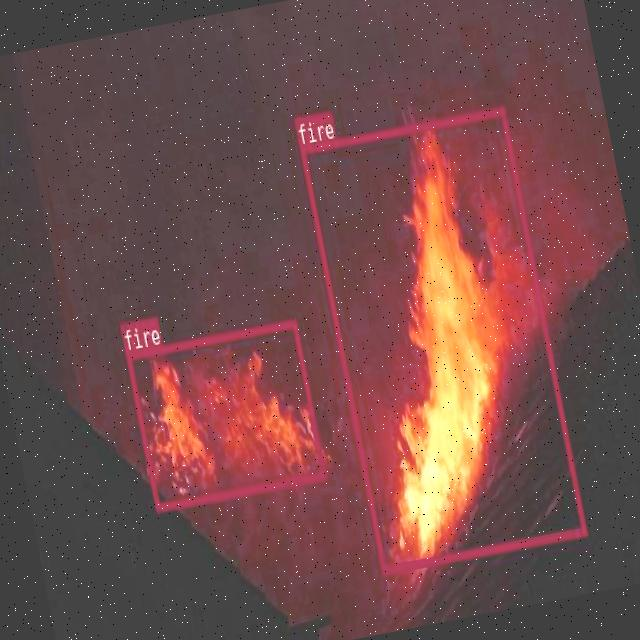fire: (299, 106, 586, 574), (125, 319, 326, 511)
